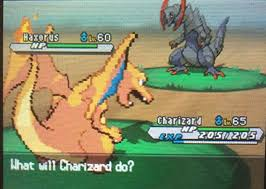charizard: (1, 31, 154, 167)
